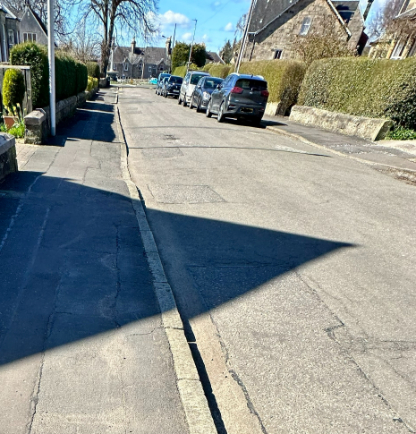car: (210, 72, 280, 127), (193, 75, 221, 108), (177, 67, 205, 100), (163, 76, 186, 97)
tree: (62, 0, 152, 79)
